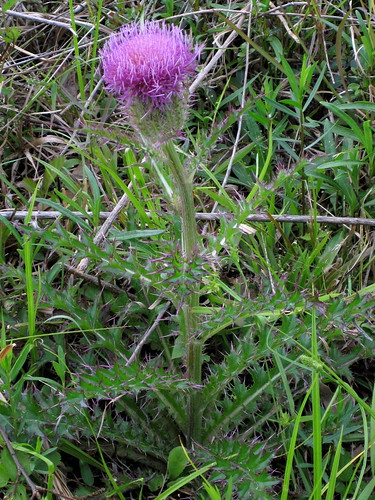thistle: (89, 17, 206, 147)
